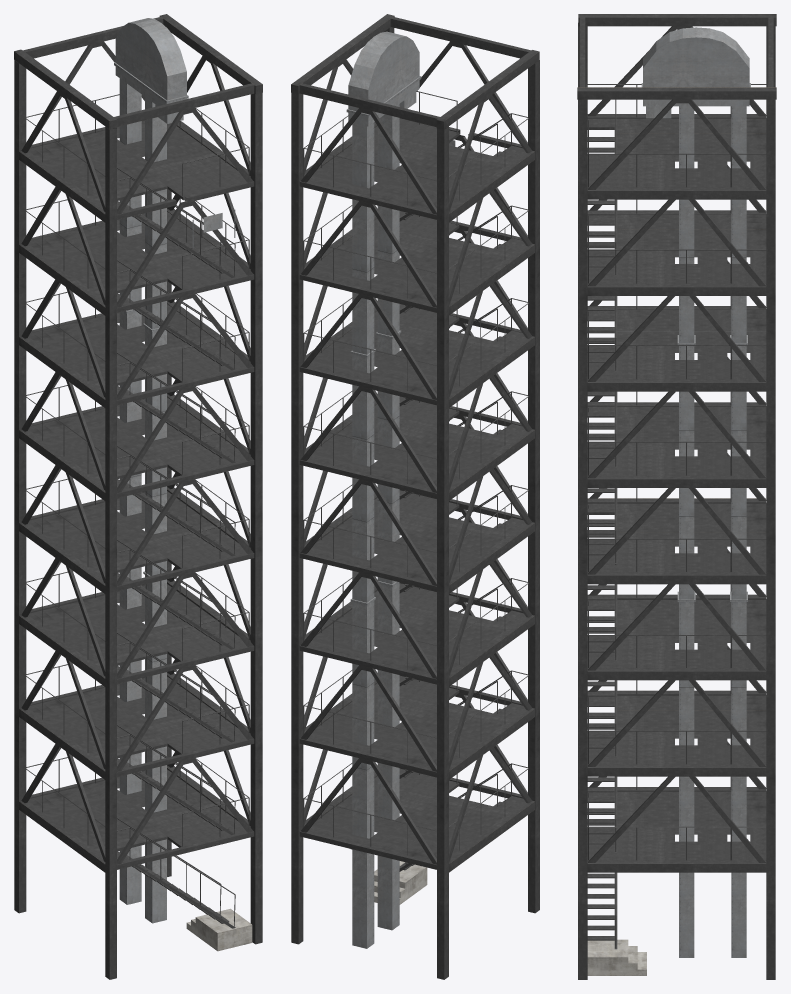
File: plant-tower1.glb
The picture shows the model from 3 angles, left to right: view 1: azimuth 30°, elevation 25°; view 2: azimuth 150°, elevation 25°; view 3: azimuth 270°, elevation 25°; orthographic projection. The views are drawn at different scales.
Parts seen in each view (by area): view 1: Object8932100; view 2: Object8932100; view 3: Object8932100.
Boxes of the visible parts, <box> form: Object8932100: <box>14,14,262,979</box>; Object8932100: <box>291,14,539,979</box>; Object8932100: <box>577,14,776,979</box>.
Size of the model in its own units: 6.79 by 37.78 by 7.73.
Materials: 1 (1 with a texture image).
